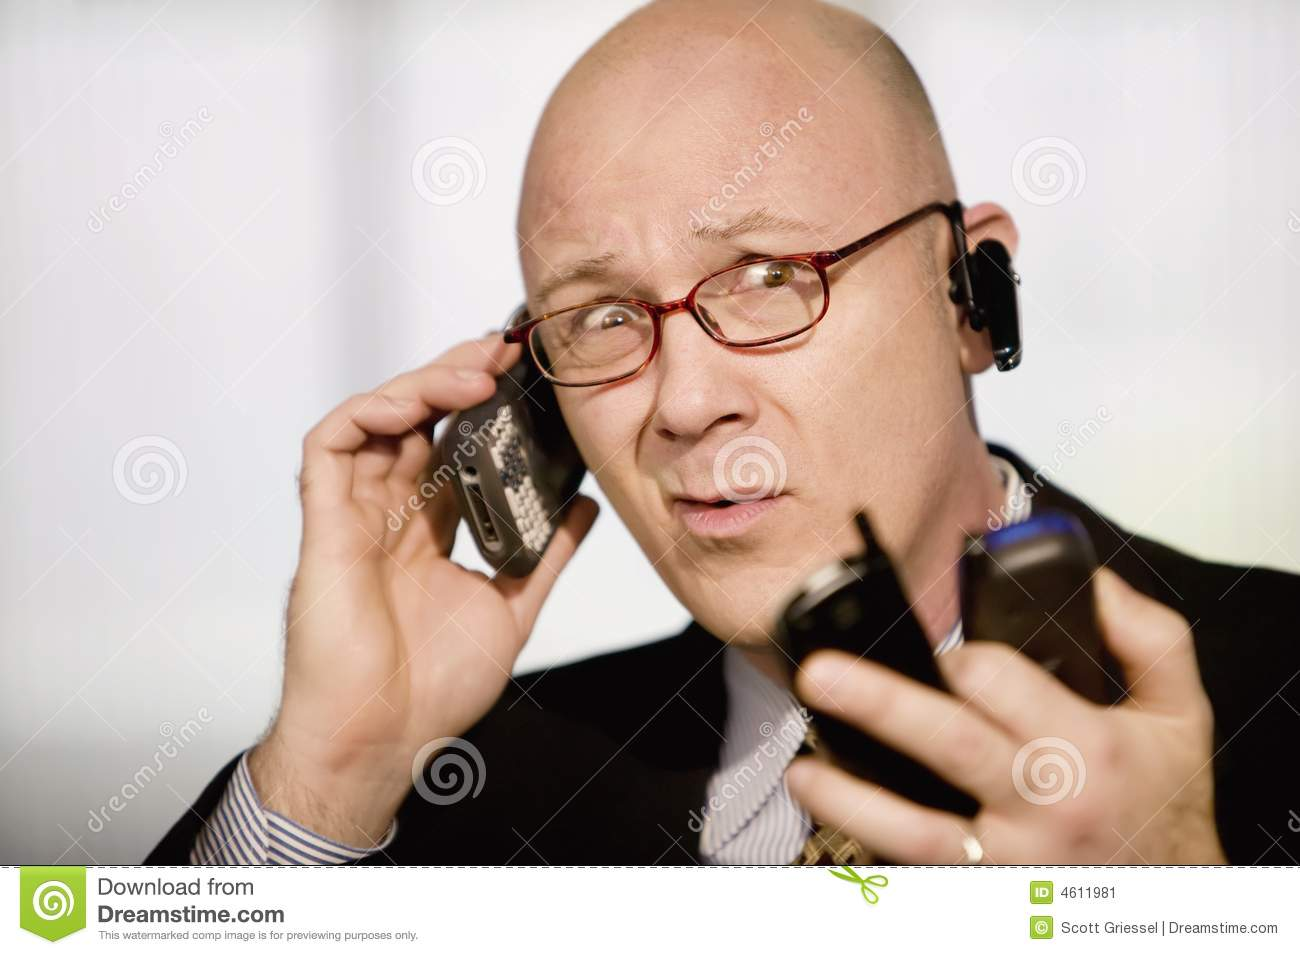phone: (444, 293, 595, 579)
talk: (269, 203, 919, 806)
